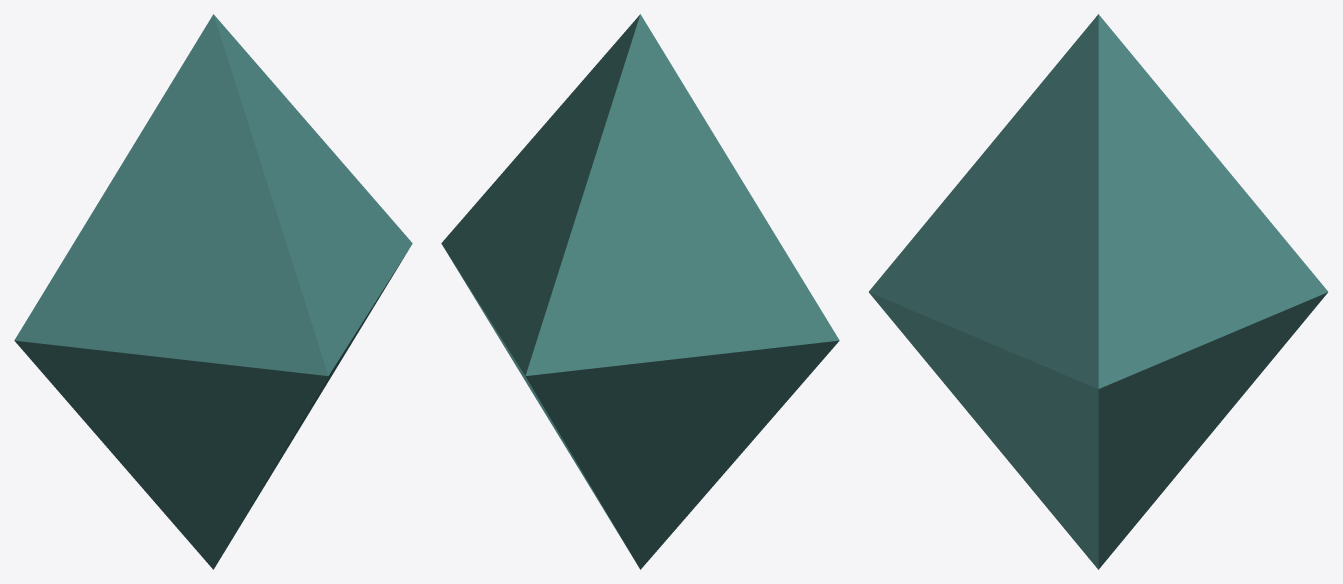
The model's file is wp-octaedre.glb.
3 renders of one model, left to right at view 1: azimuth 30°, elevation 25°; view 2: azimuth 150°, elevation 25°; view 3: azimuth 270°, elevation 25°, orthographic.
Visible parts, largest first — view 1: wp-octaedre; view 2: wp-octaedre; view 3: wp-octaedre.
Boxes of the visible parts, x1,y1,x2,y2 form: wp-octaedre: (14,14,412,569); wp-octaedre: (441,14,839,569); wp-octaedre: (869,14,1327,569).
Size of the model in its own units: 0.3 by 0.4 by 0.3.
